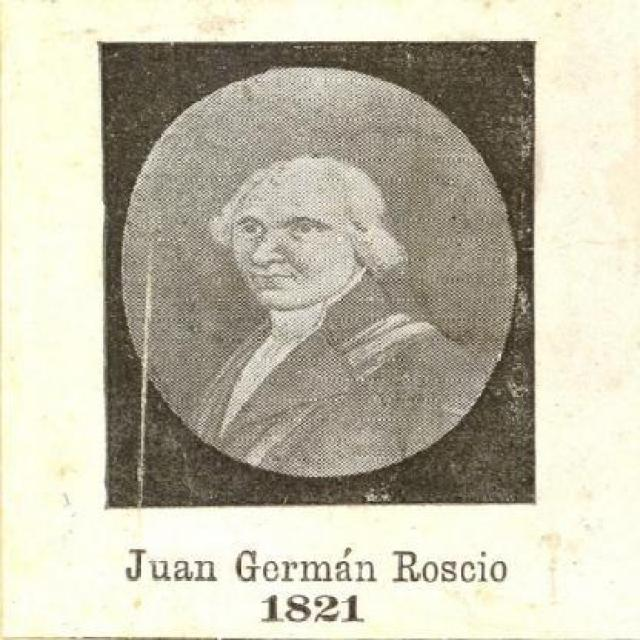Person: (189, 158, 494, 478)
